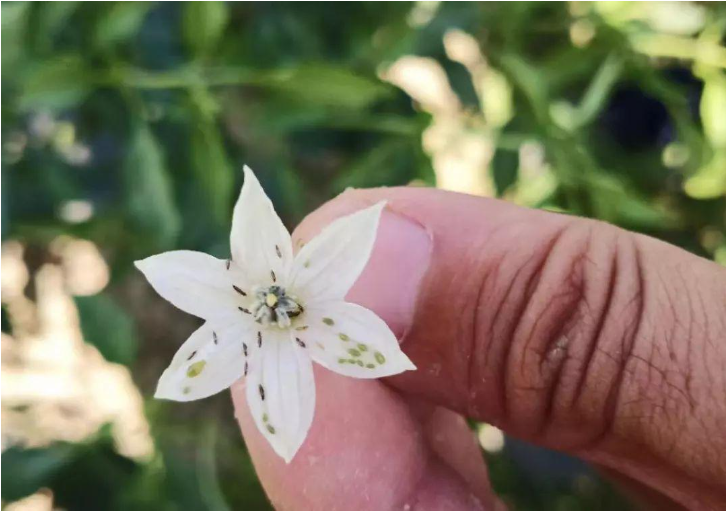thrips: (232, 283, 249, 297), (272, 242, 286, 258), (295, 335, 309, 350), (238, 303, 255, 315), (241, 359, 251, 377), (257, 382, 266, 401), (257, 331, 267, 348), (186, 348, 198, 360), (270, 269, 279, 285), (224, 256, 233, 269), (241, 340, 249, 354), (211, 328, 216, 345)
